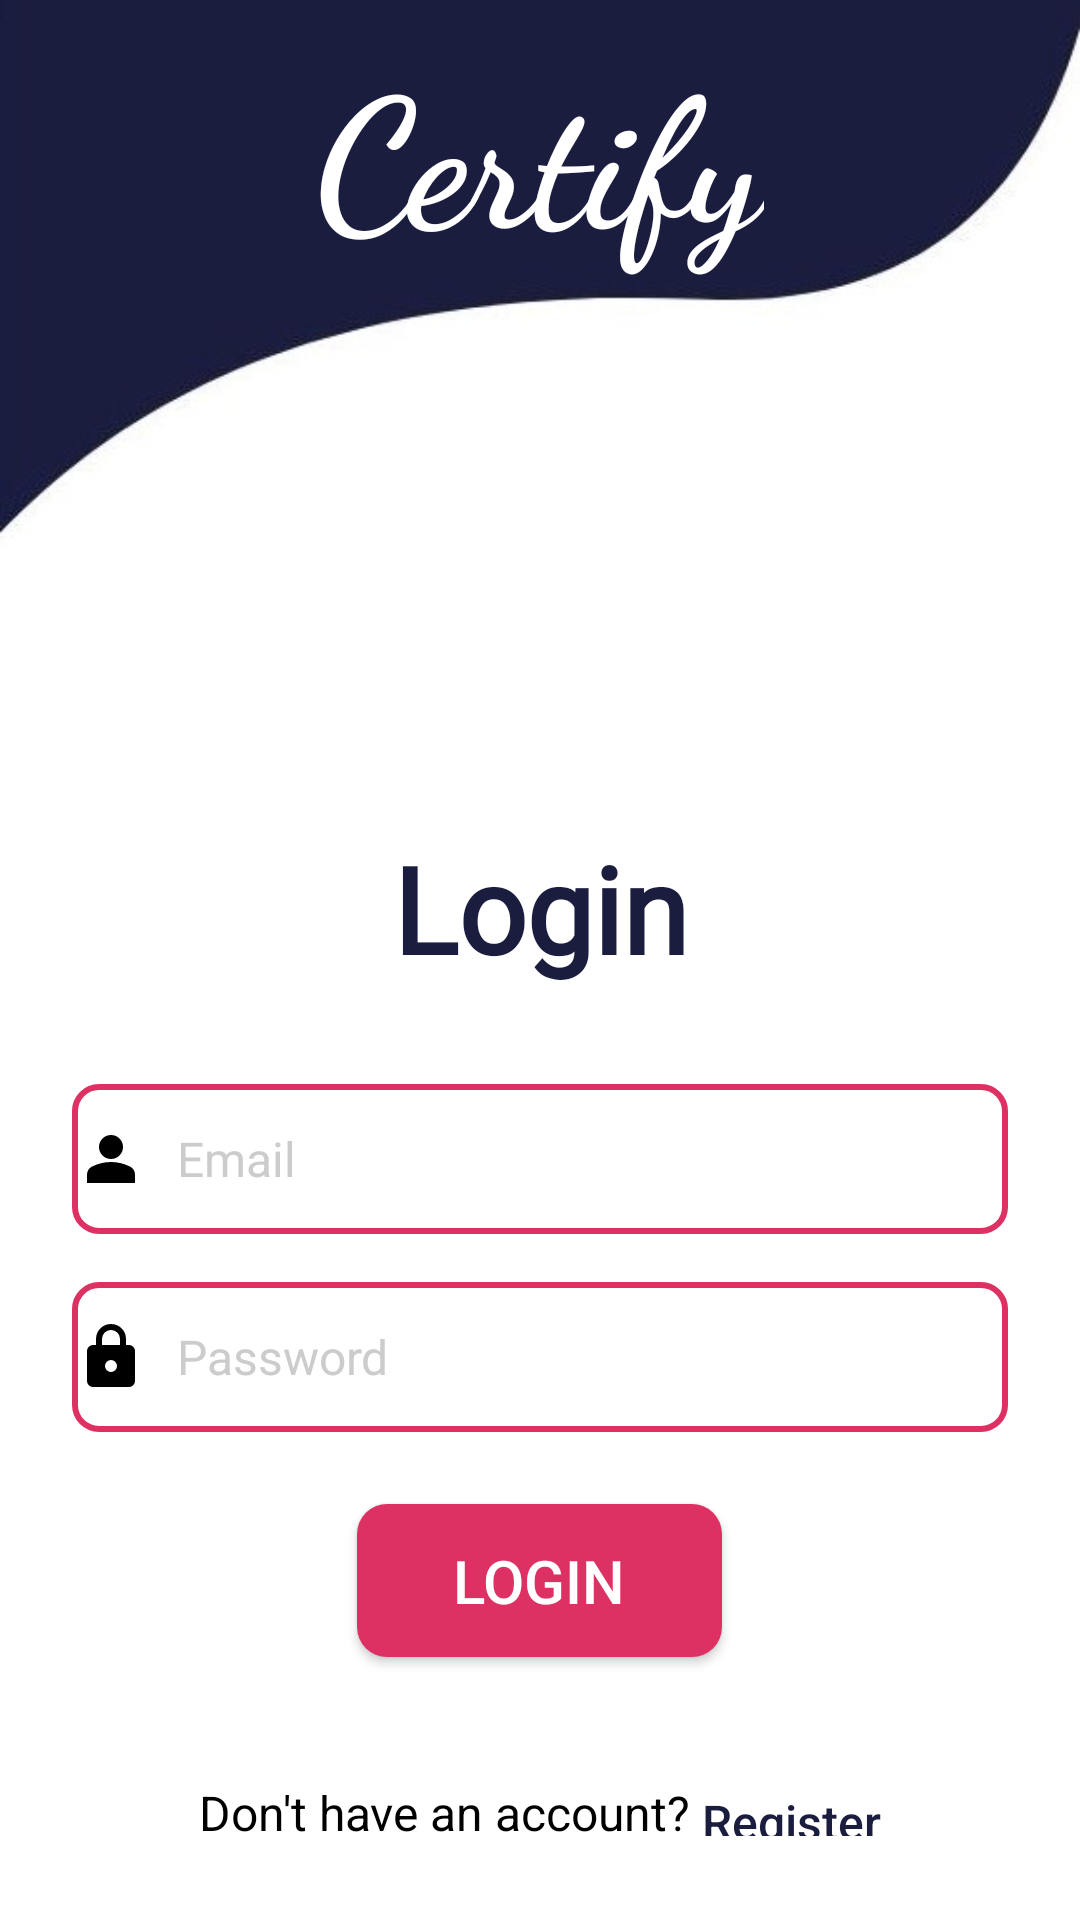

Point at icon controls on the screen. Image size 1080x1920, points as [x,y].
user: [111,1159]
